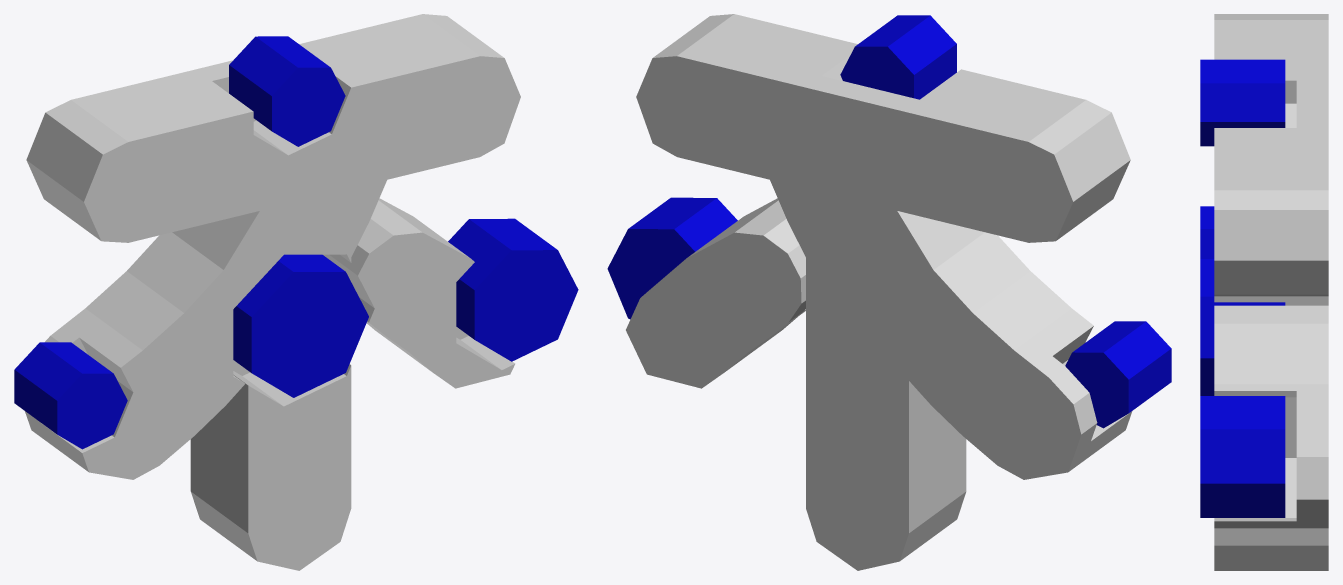
Rendered from Ch_Lite_China_不_01.fbx.
The picture shows the model from 3 angles, left to right: view 1: azimuth 30°, elevation 25°; view 2: azimuth 150°, elevation 25°; view 3: azimuth 270°, elevation 25°; orthographic projection.
Visible parts, largest first — view 1: sphere1; view 2: sphere1; view 3: sphere1.
Part boxes in pixels (box(x1,y1,x2,y2)): sphere1: box(14, 14, 578, 570); sphere1: box(607, 14, 1171, 570); sphere1: box(1200, 14, 1328, 570).
Size of the model in its own units: 1.05 by 0.9778 by 0.2242.
